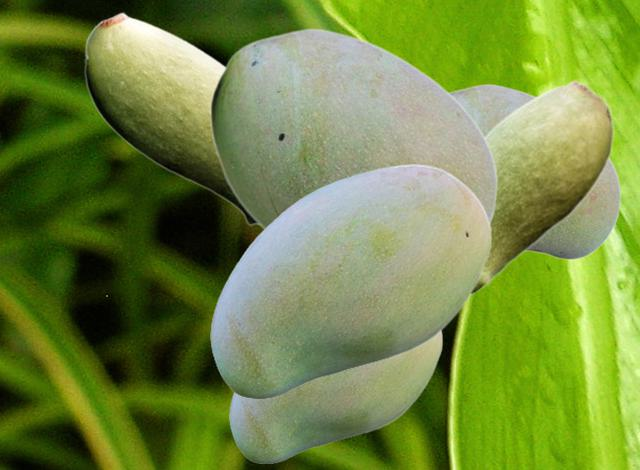green_mango: (210, 164, 491, 397), (209, 27, 497, 229), (84, 11, 256, 225), (449, 83, 620, 259), (473, 79, 613, 293), (229, 332, 442, 462)
